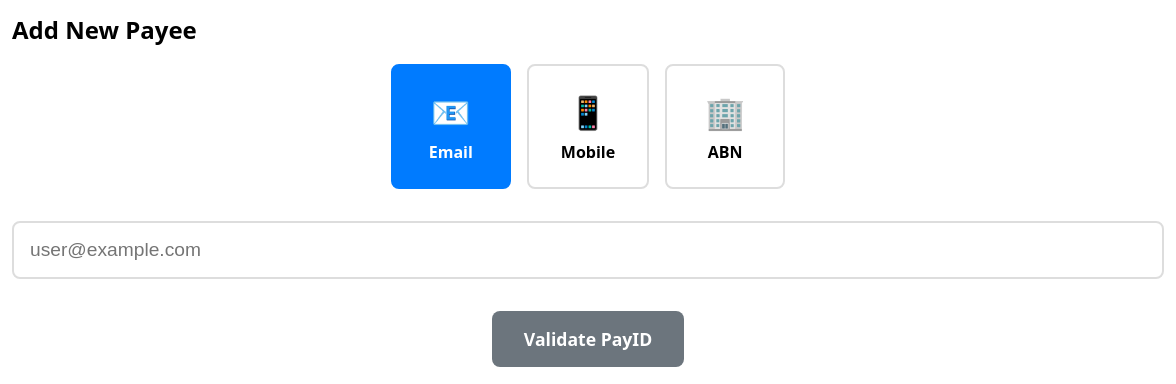
Test: AddNewPayee › PayID type selection › should switch PayID types when buttons are clicked
Note: Click mobile button
What coordinates should you click on to do the following:
click the button "📱 Mobile"
I would click on:
 (588, 126)
Its box is [527,64,649,189].
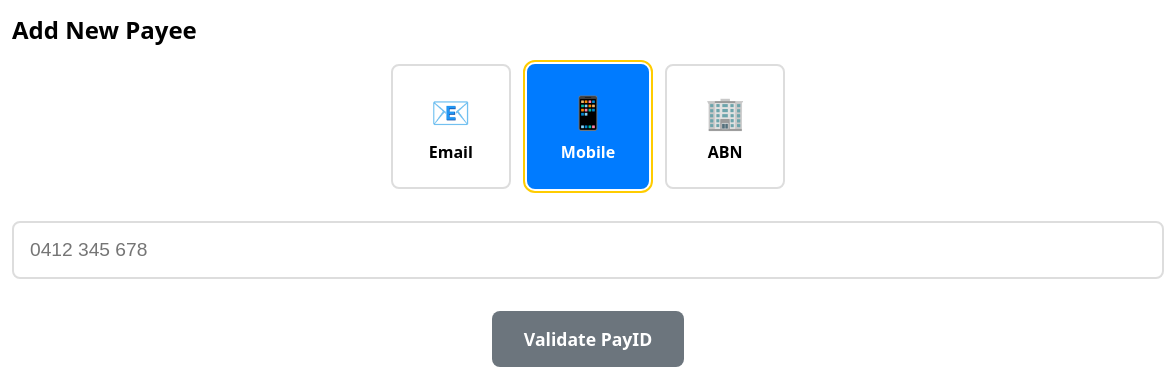
Now the field with placeholder "0412 345 678" is shown, box [12,221,1164,279]
